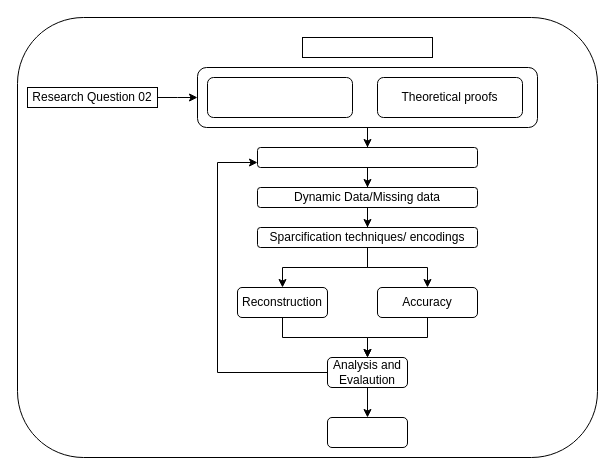
This 615x475 diagram has some shape labels left out. Each missing label, with the centre of its shape:
Deep unfolding: (x=367, y=157)
Evaluations: (x=279, y=97)
Research Question 03: (x=367, y=47)
Thesis Finalze: (x=367, y=432)
